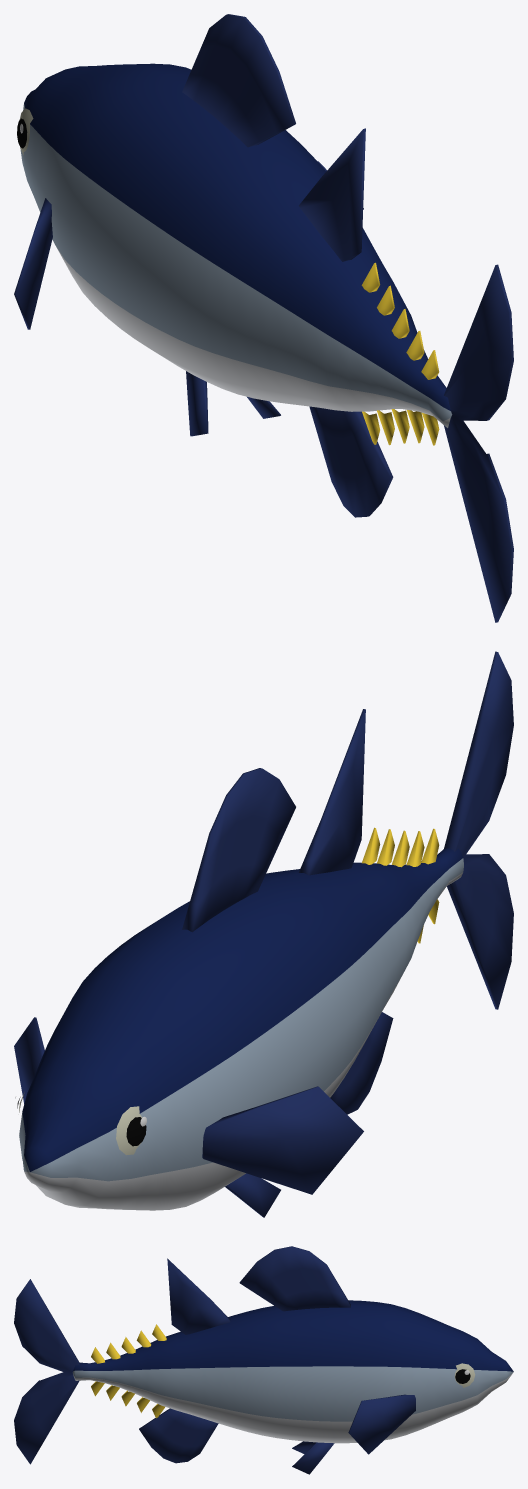
The model's file is tuna.glb.
3 views of the same model, one above another, from view 1: azimuth 30°, elevation 25°; view 2: azimuth 150°, elevation 25°; view 3: azimuth 270°, elevation 25° (orthographic). The views are drawn at different scales.
Parts seen in each view (by area): view 1: tuna; view 2: tuna; view 3: tuna.
Part boxes in pixels (box(x1,y1,x2,y2)): tuna: box(14, 14, 513, 622); tuna: box(14, 651, 513, 1217); tuna: box(14, 1246, 513, 1474).
Bounding box in the file's own units: 0.9586 × 1.11 × 2.29.
